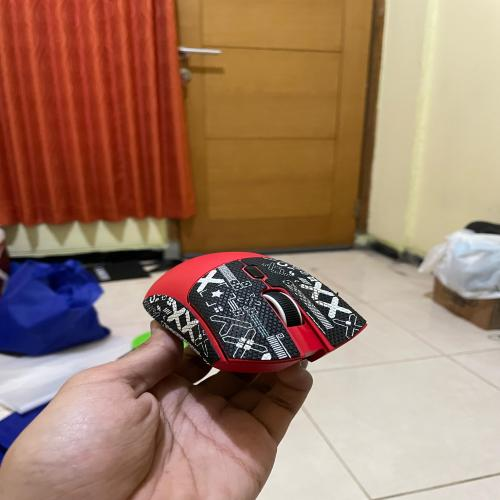Mouse: (134, 236, 383, 385)
